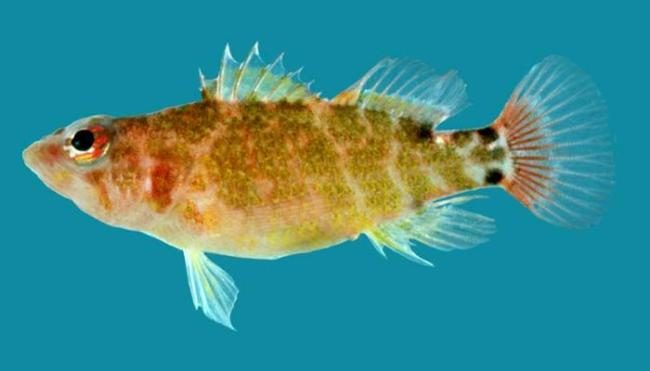fish: (21, 39, 616, 333)
